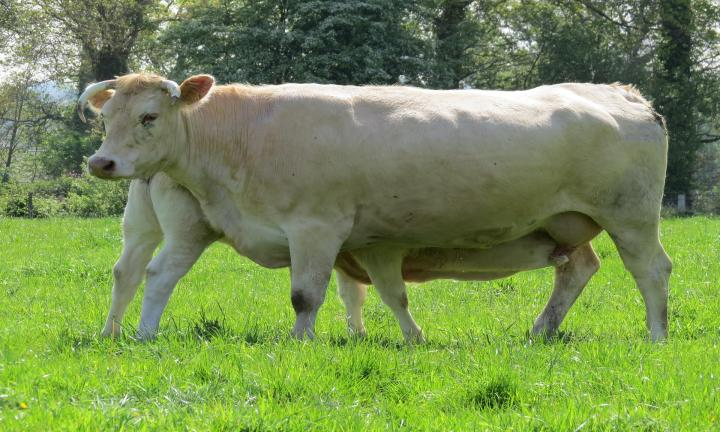Charolais: (78, 74, 672, 340)
